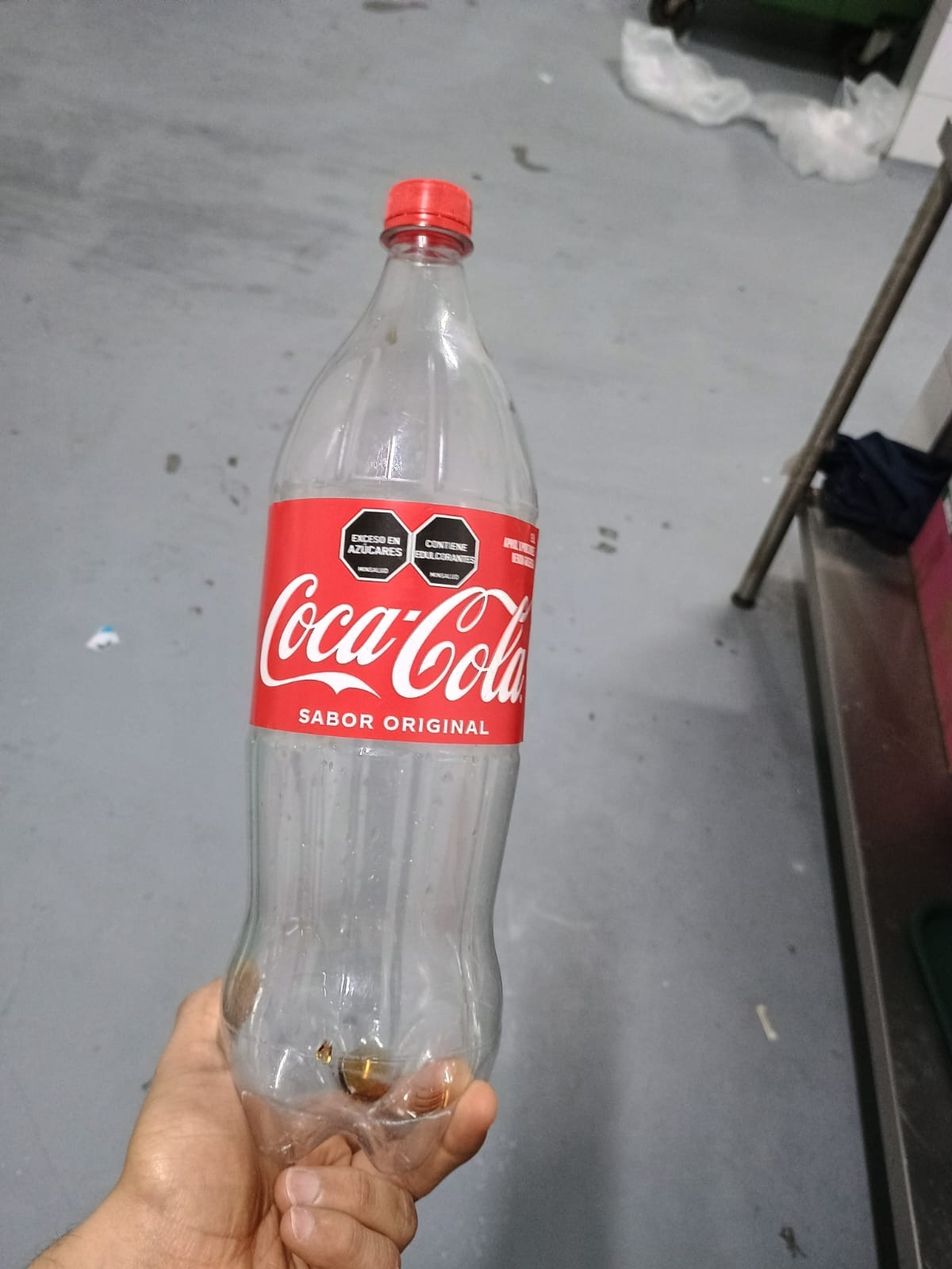Plastico: (220, 181, 543, 1177)
